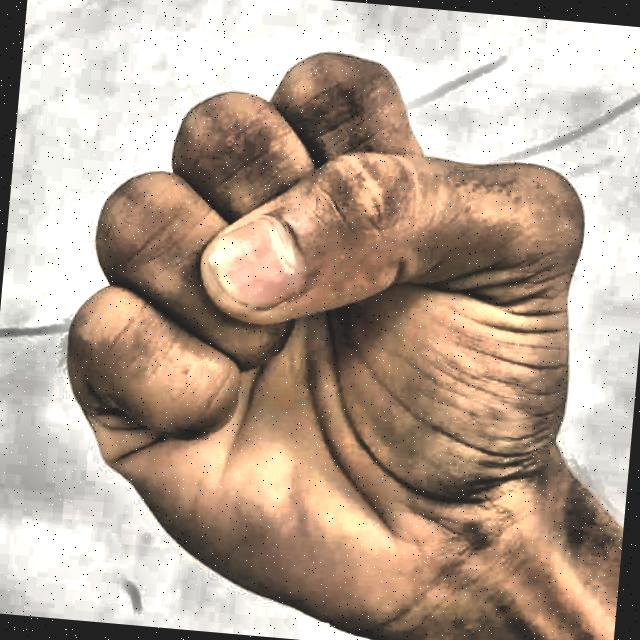Sha: (9, 0, 625, 640)
